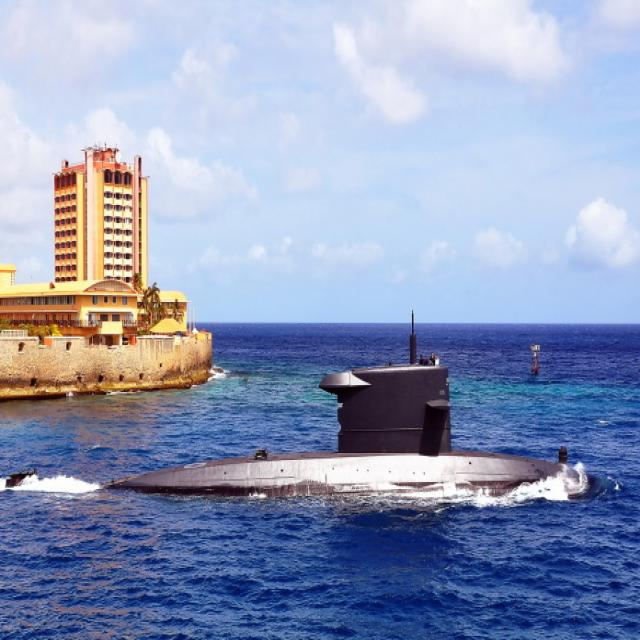submarine: (4, 302, 612, 498)
